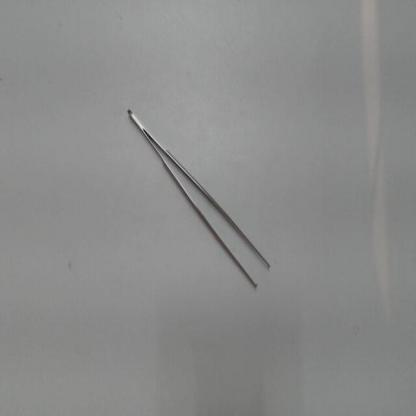Gillies Toothed Dissector: (122, 89, 290, 305)
